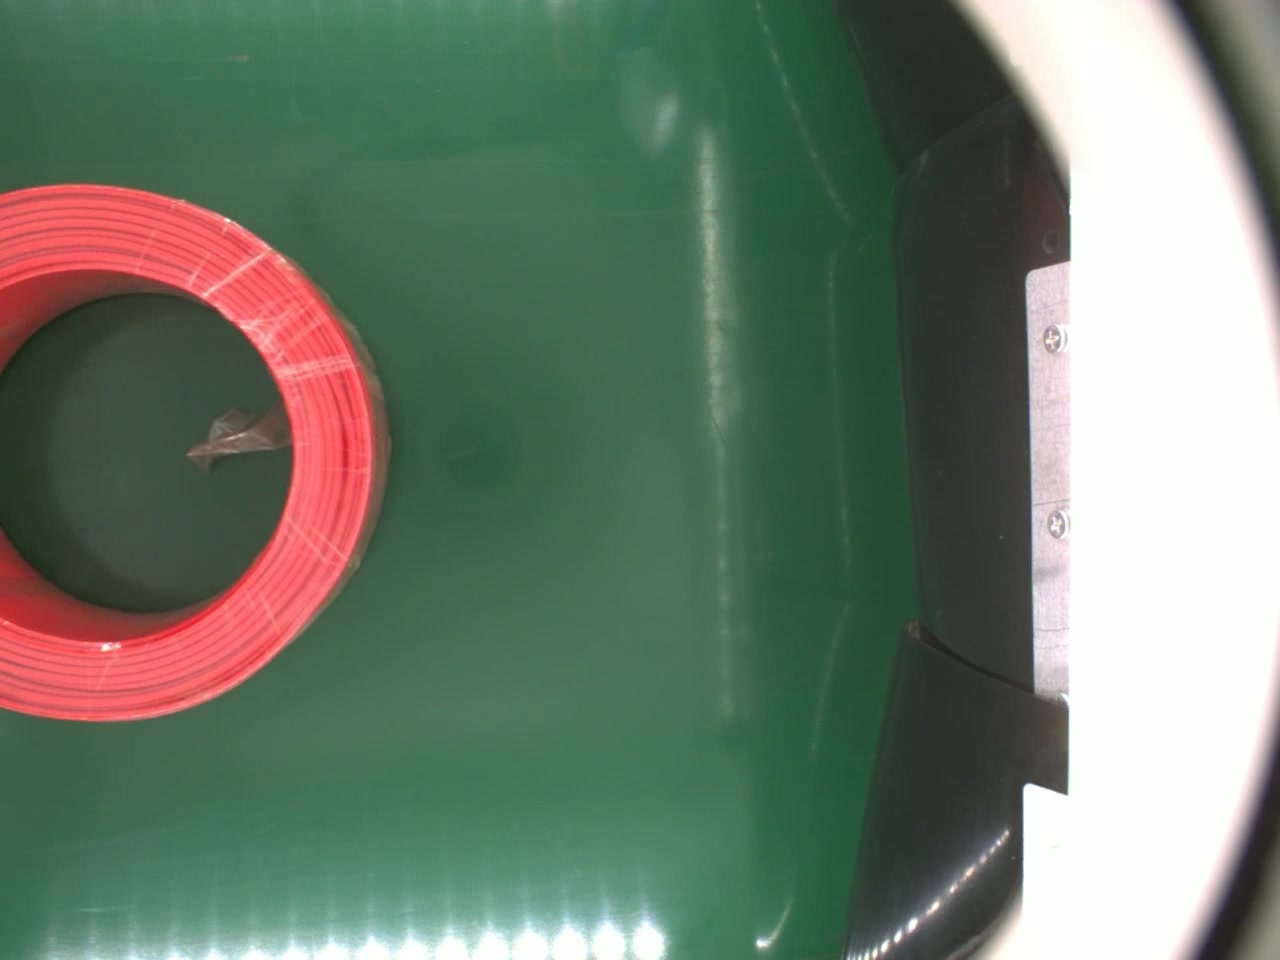red: (0, 181, 389, 727)
